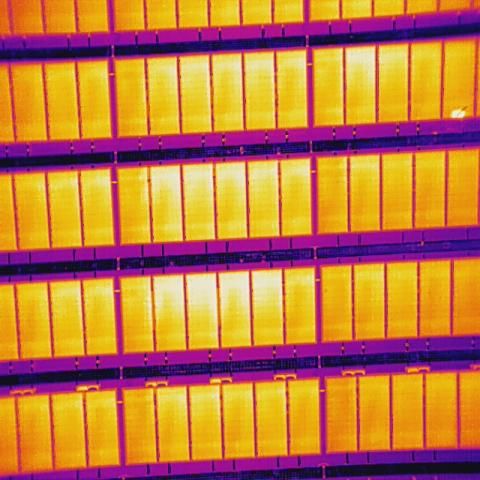fault: (450, 107, 466, 120)
